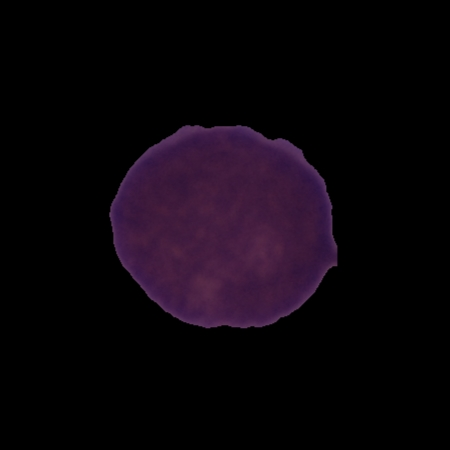HEM: (106, 120, 344, 332)
